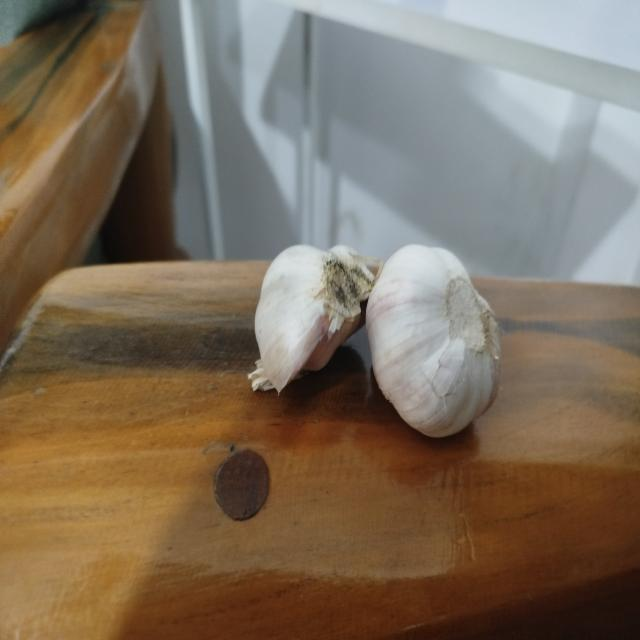garlic: (365, 242, 501, 438), (247, 243, 380, 395)
